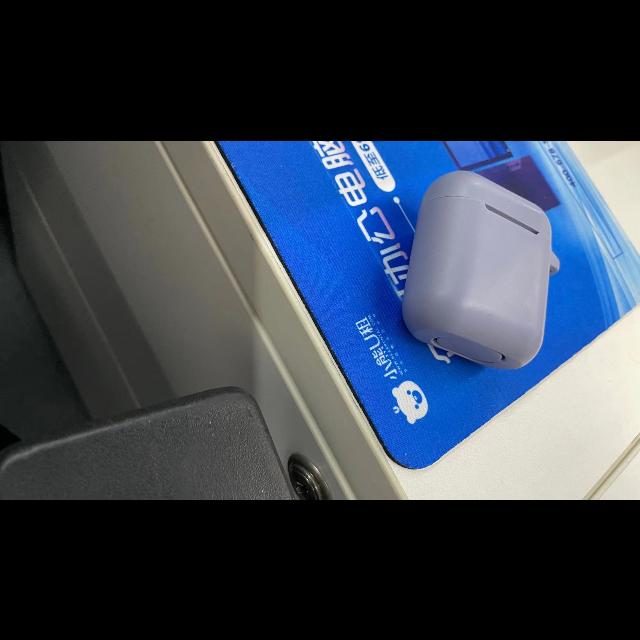airpods: (401, 170, 560, 371)
